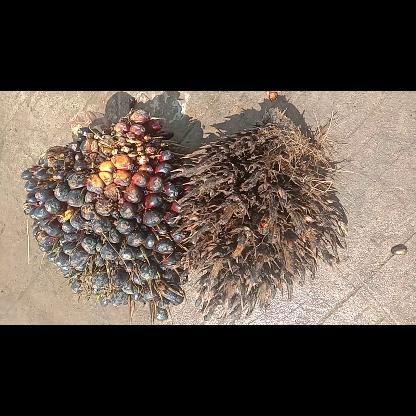Janjang kosong: (172, 108, 346, 324)
TBS mentah: (20, 108, 196, 324)
